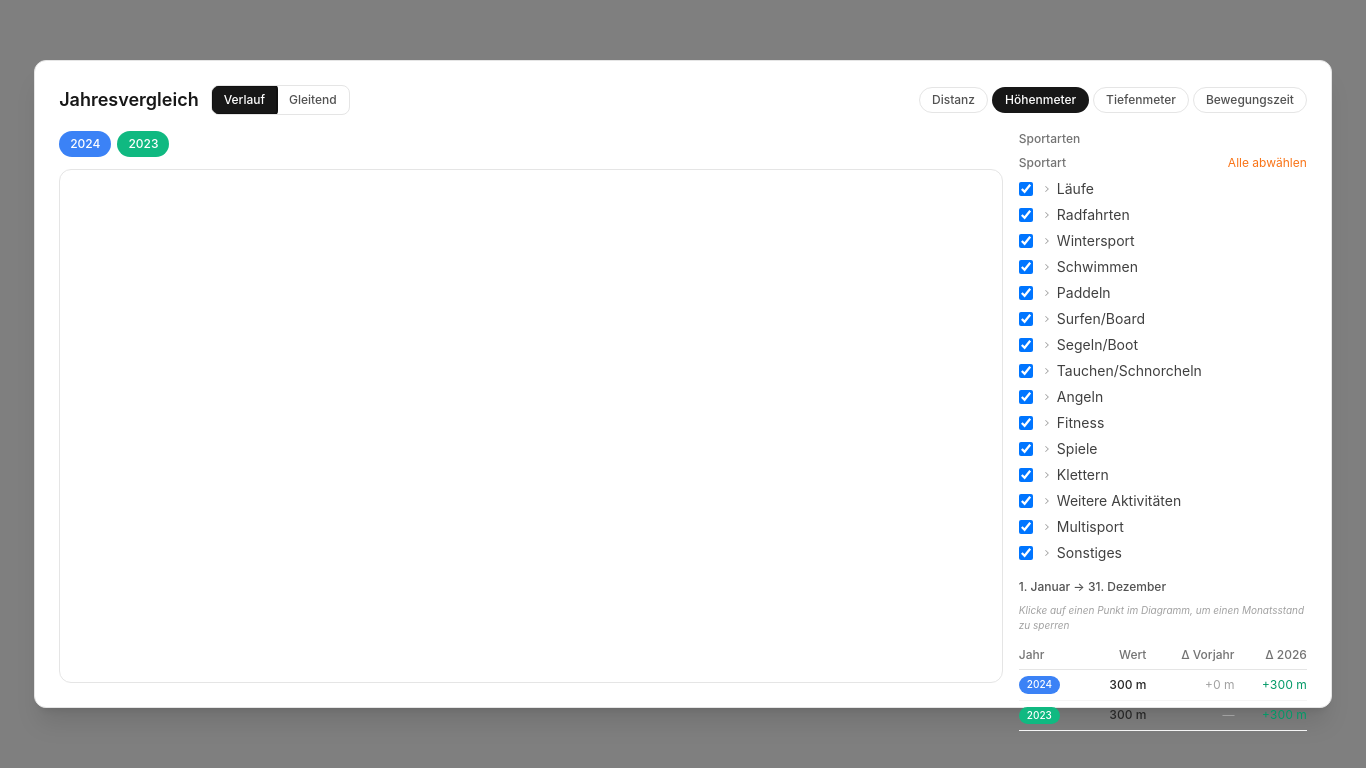
Test: YearProgressionFullscreenModal › mode-switch (F007): lockedDate resets, metric and years are preserved
This screenshot has width=1366, height=768.
Switch to rolling.
Click the button "Gleitend" at (313, 100), box [277, 86, 349, 114]
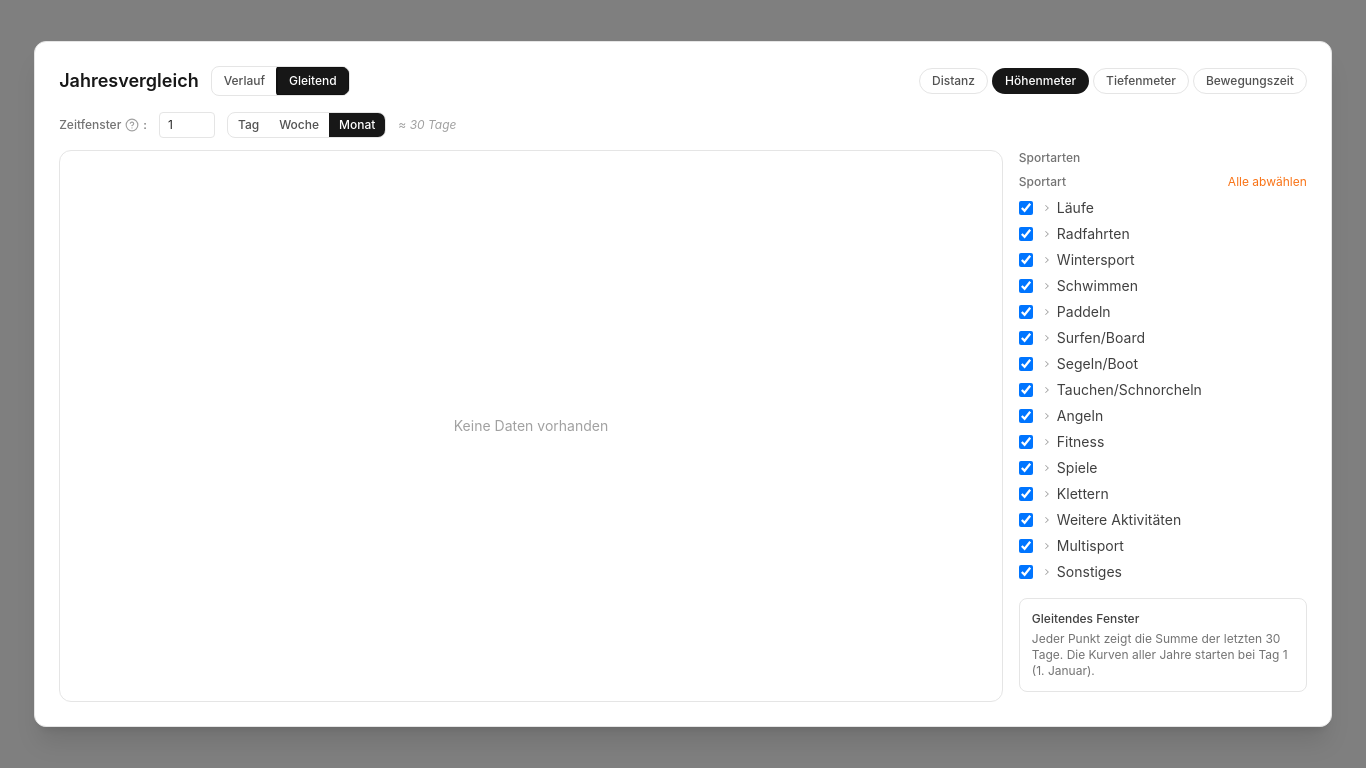
Check: the element with test id "period-selector" is shown, box [59, 112, 456, 138]
